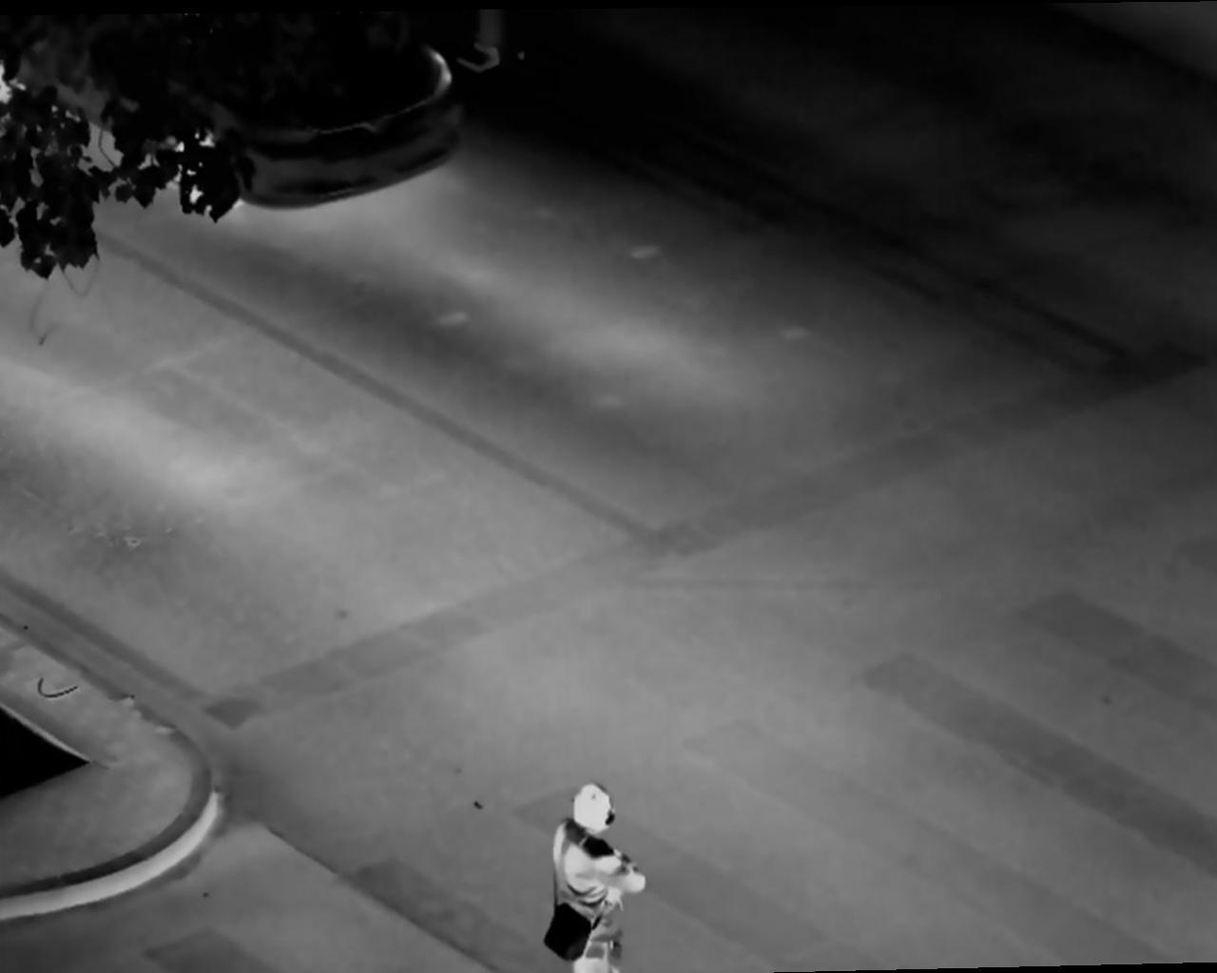person: (545, 776, 639, 973)
